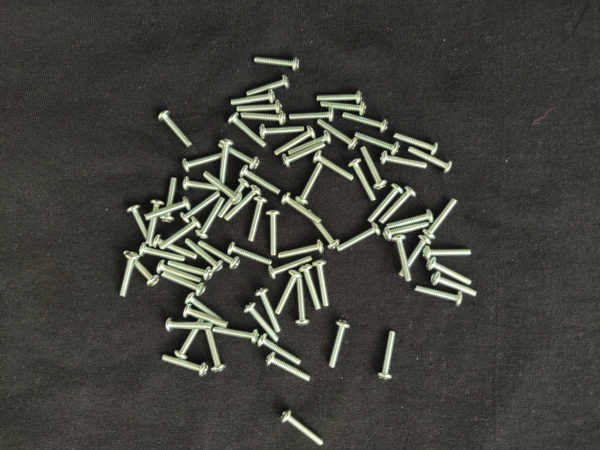longscrew: (278, 409, 326, 447), (422, 197, 461, 240), (242, 301, 281, 343), (183, 292, 228, 328), (157, 110, 197, 150), (226, 111, 268, 149), (315, 118, 360, 153), (257, 332, 303, 366), (398, 232, 432, 278), (367, 183, 405, 224), (347, 157, 379, 205), (379, 186, 418, 225), (184, 236, 224, 274), (265, 352, 314, 383), (159, 216, 202, 251), (224, 184, 262, 223), (336, 222, 382, 254), (305, 208, 340, 250), (173, 317, 206, 361), (311, 150, 355, 183), (123, 249, 160, 288), (254, 287, 284, 335), (274, 269, 304, 317), (238, 165, 283, 197), (218, 177, 252, 219), (426, 257, 475, 286), (281, 193, 324, 226), (180, 190, 223, 223), (195, 196, 226, 241), (202, 171, 243, 205), (198, 239, 241, 271), (407, 144, 454, 173), (274, 125, 317, 156), (392, 130, 443, 156), (375, 328, 399, 383), (359, 146, 388, 191), (298, 263, 324, 313), (430, 271, 478, 298), (218, 142, 261, 172), (295, 162, 324, 206), (267, 255, 316, 281), (327, 318, 351, 371), (160, 271, 207, 298), (152, 234, 199, 261), (227, 241, 275, 267), (287, 129, 333, 156), (160, 352, 209, 377), (353, 131, 402, 156), (281, 142, 328, 168), (203, 324, 227, 374), (144, 195, 192, 220), (117, 250, 141, 299), (391, 235, 415, 284), (413, 284, 464, 307), (376, 149, 429, 171), (181, 150, 229, 174), (156, 260, 202, 285), (183, 304, 230, 328), (386, 208, 436, 230), (246, 195, 268, 244), (382, 221, 431, 243), (311, 259, 332, 310), (126, 205, 152, 246), (341, 112, 391, 133), (167, 259, 214, 281), (278, 239, 327, 260), (139, 241, 188, 262), (246, 74, 292, 96), (158, 176, 179, 223), (145, 199, 165, 246), (293, 275, 311, 327), (212, 326, 261, 345), (266, 209, 284, 260), (257, 123, 310, 140), (319, 100, 371, 117), (252, 55, 303, 72), (422, 245, 476, 261), (230, 88, 278, 106), (218, 138, 234, 189), (164, 317, 214, 333), (314, 90, 367, 105), (235, 99, 284, 115), (181, 176, 227, 192), (288, 107, 336, 122), (239, 110, 287, 125)
